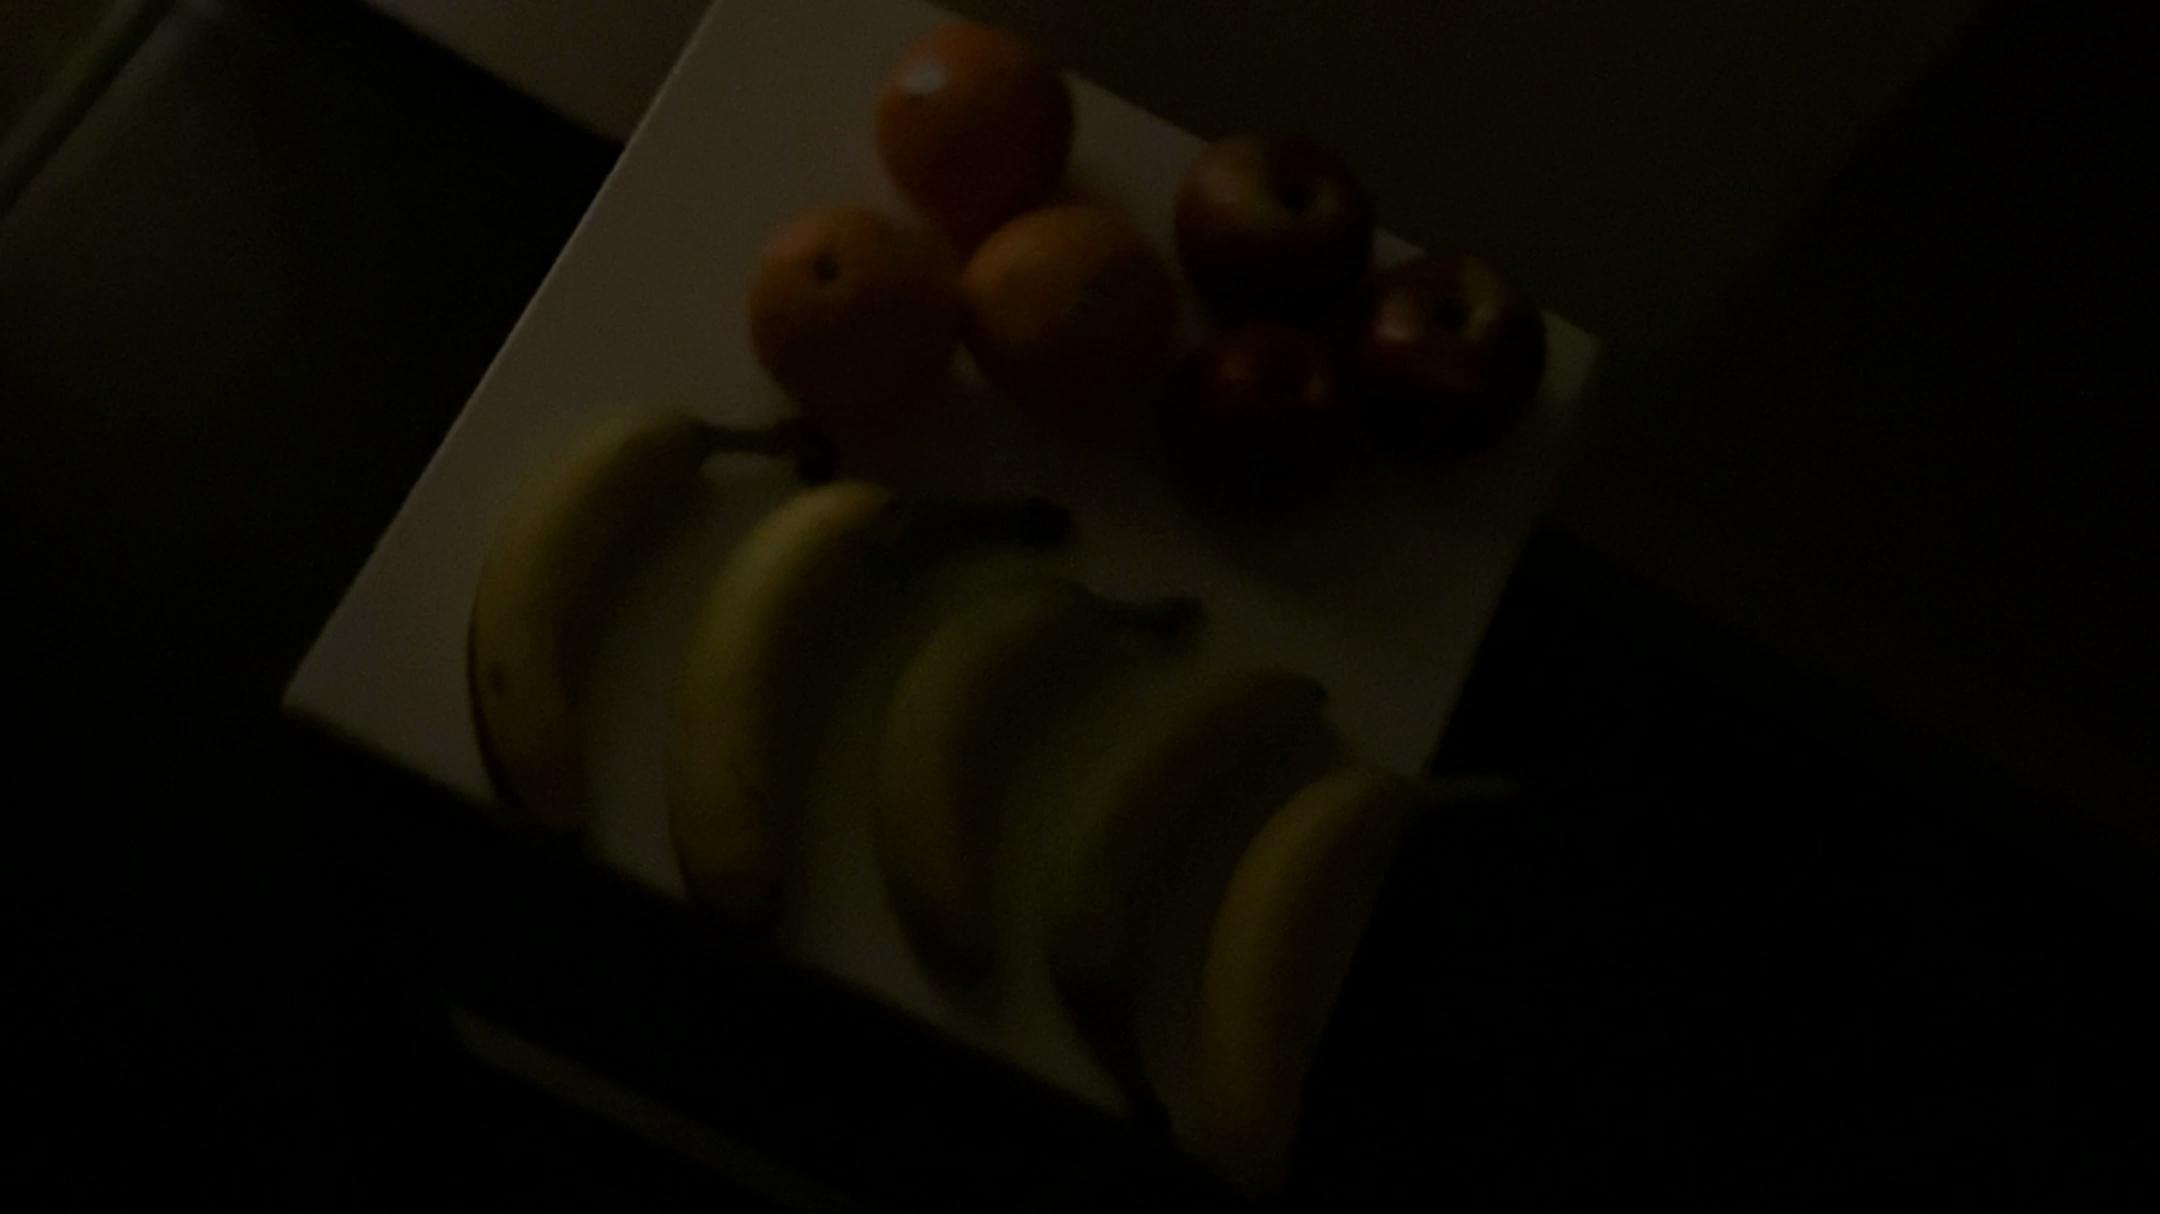apple: (1163, 298, 1377, 536), (1346, 232, 1562, 457), (1163, 119, 1369, 335)
banana: (461, 387, 801, 883), (687, 442, 979, 944), (898, 528, 1203, 993), (1019, 631, 1322, 1097), (1193, 744, 1409, 1175)
orange: (946, 180, 1168, 441), (737, 181, 960, 436), (860, 9, 1089, 220)
